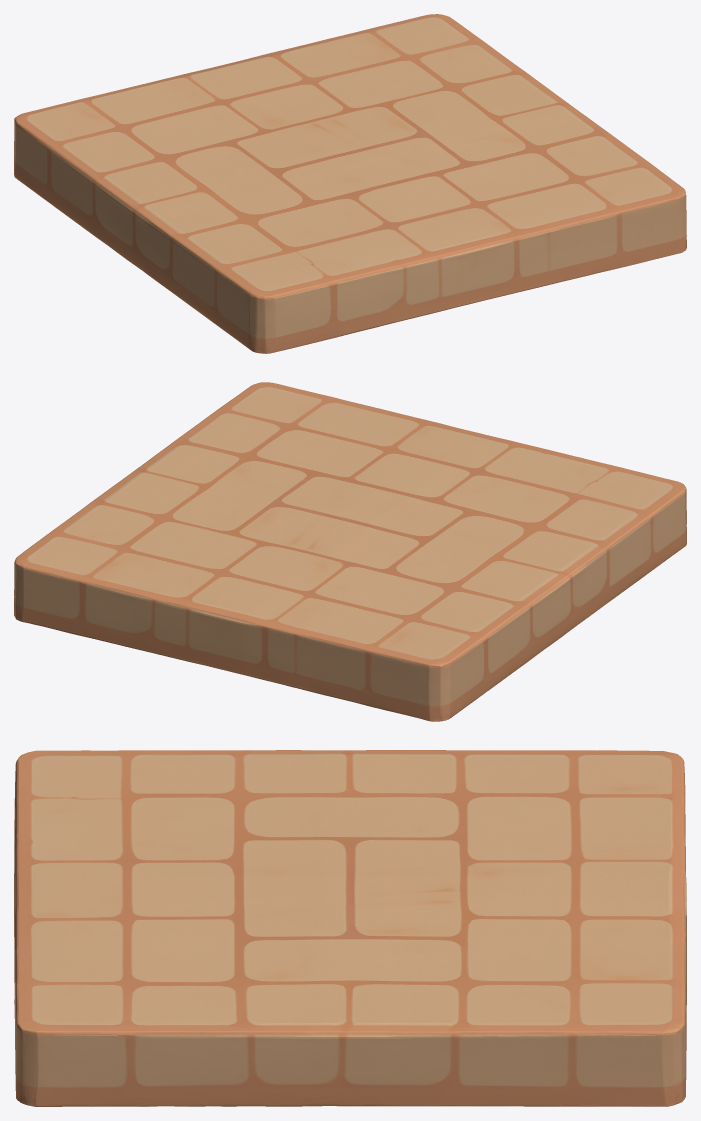
3 views of the same model, one above another, from view 1: azimuth 30°, elevation 25°; view 2: azimuth 150°, elevation 25°; view 3: azimuth 270°, elevation 25° (orthographic). The views are drawn at different scales.
Parts seen in each view (by area): view 1: world; view 2: world; view 3: world.
Part boxes in pixels (x1,y1,x2,y2): world: (14,14,686,353); world: (14,382,686,721); world: (14,750,686,1106).
Size of the model in its own units: 0.998 by 0.1343 by 0.9987.
Materials: 1 (1 with a texture image).
